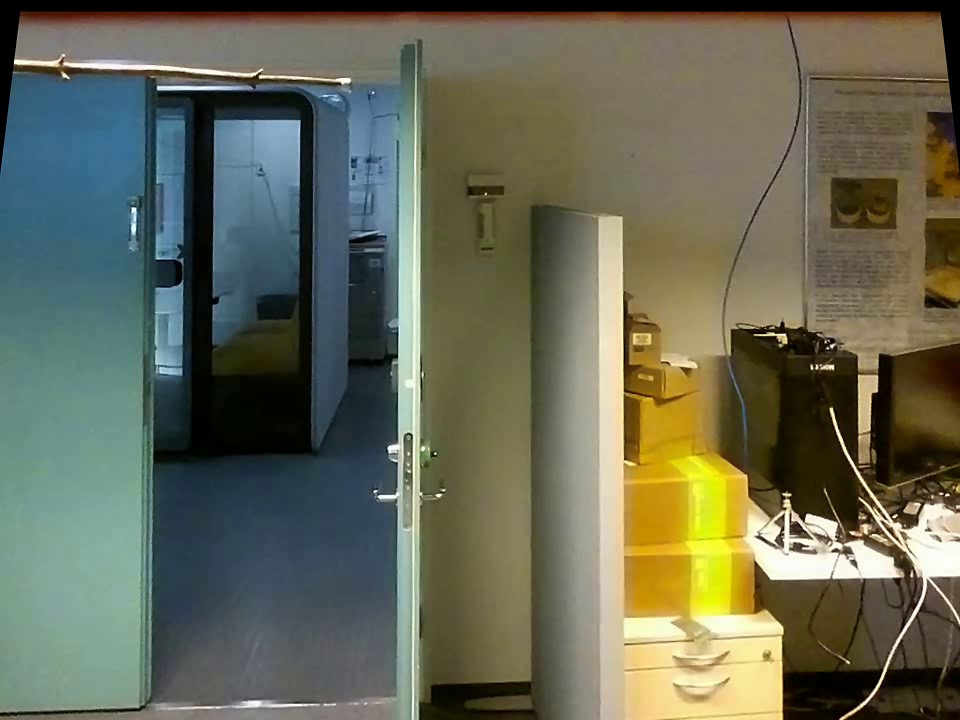branch: (14, 49, 336, 95)
